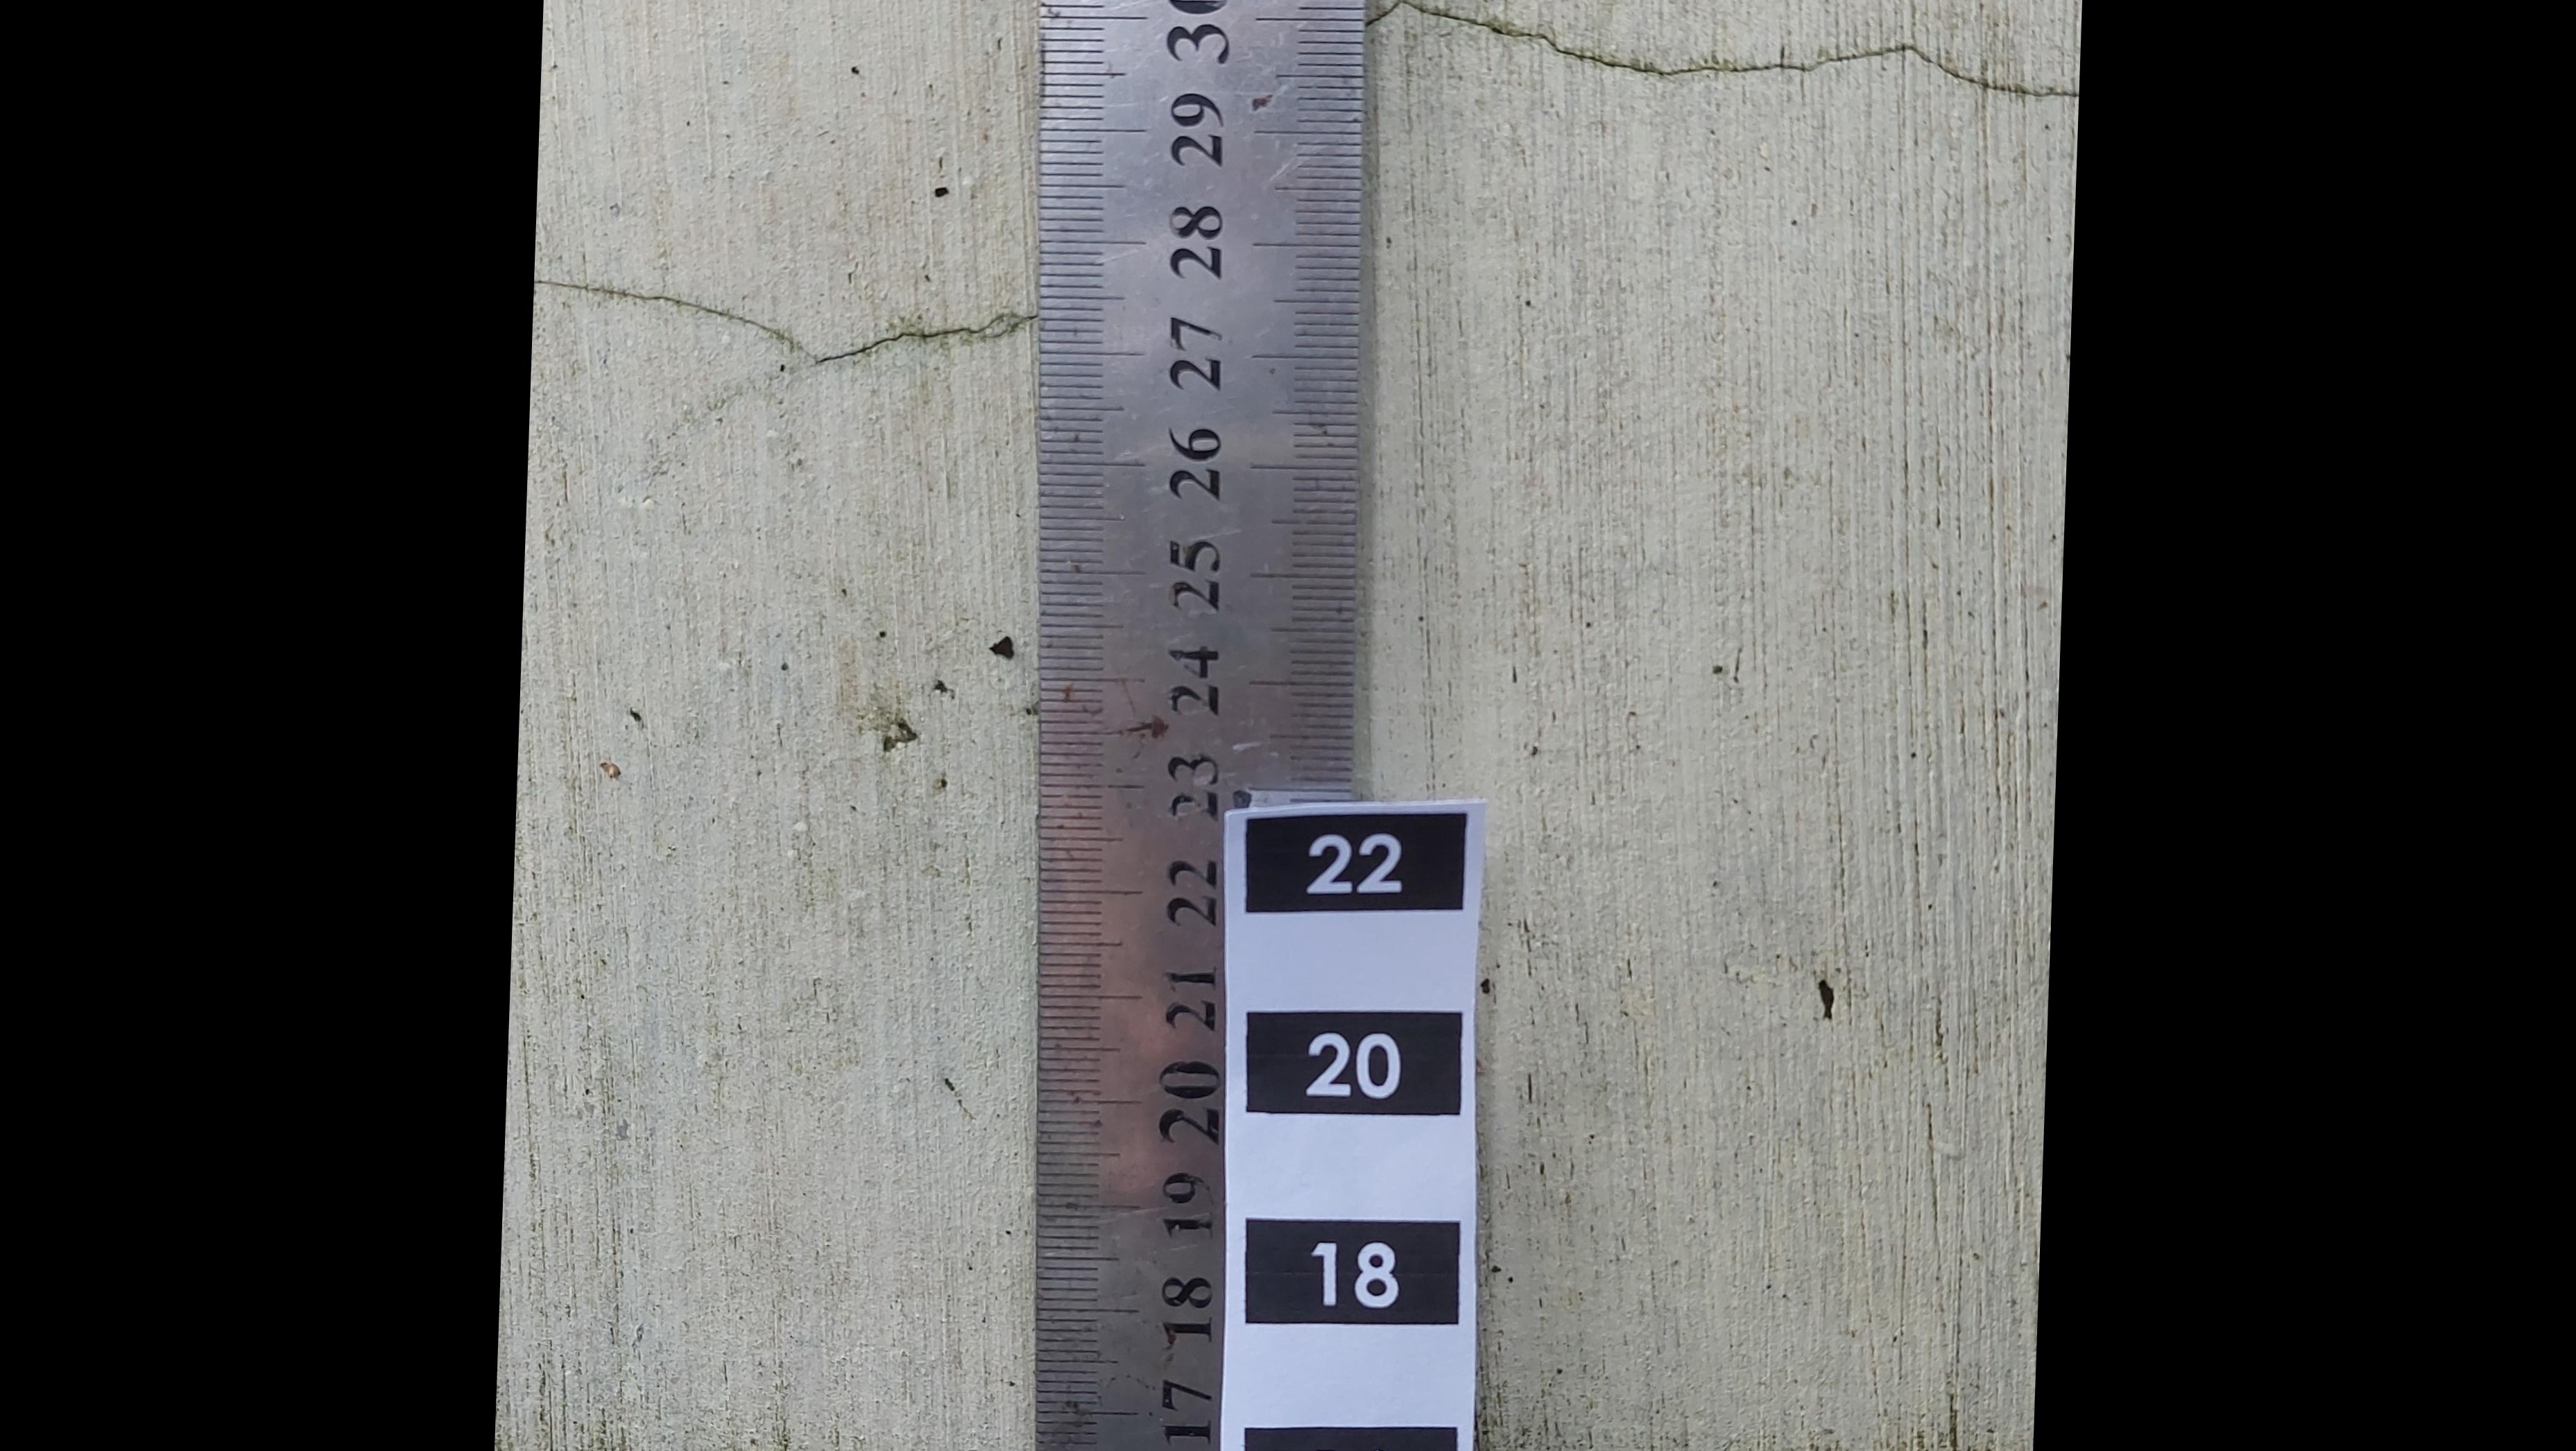kotak_2x1: (1247, 1216, 1460, 1325), (1247, 1010, 1460, 1117), (1246, 816, 1461, 906)
